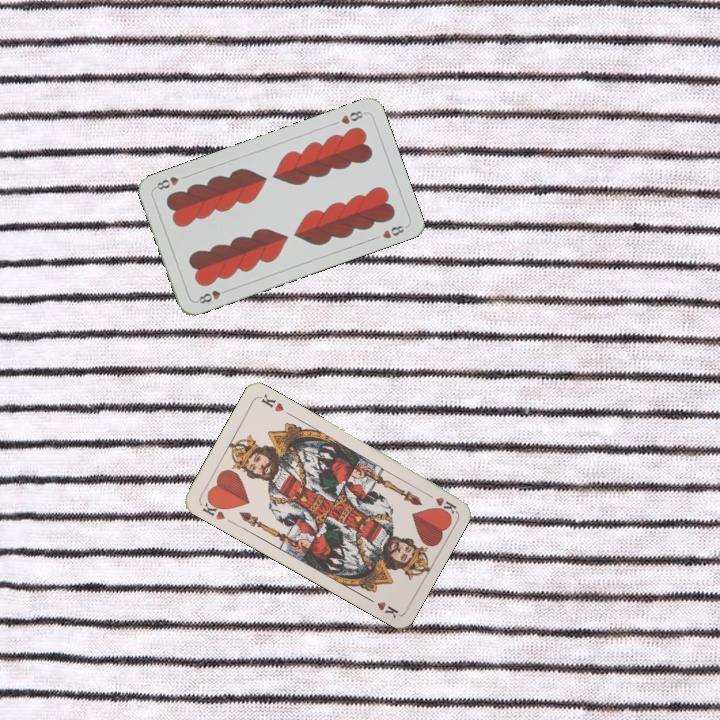H8: (192, 285, 231, 306), (337, 107, 368, 127)
HK: (420, 488, 459, 516), (197, 495, 228, 523)
